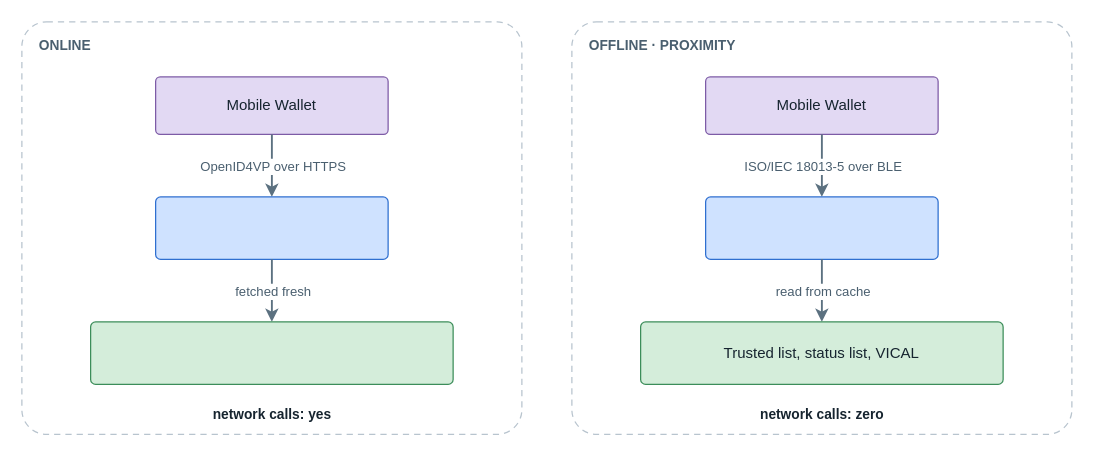
Some shapes in this 1094 by 456 pixel diagram are drawn without their labels. The shapes that lost their labels are listed below. From the top down, each one's centre as x and y in pixels, then its label:
At pixel 271 227: "Verifier Core or Mobile Verifier".
At pixel 821 227: "Mobile Verifier".
At pixel 271 352: "Trusted list, status list, TRQP".
